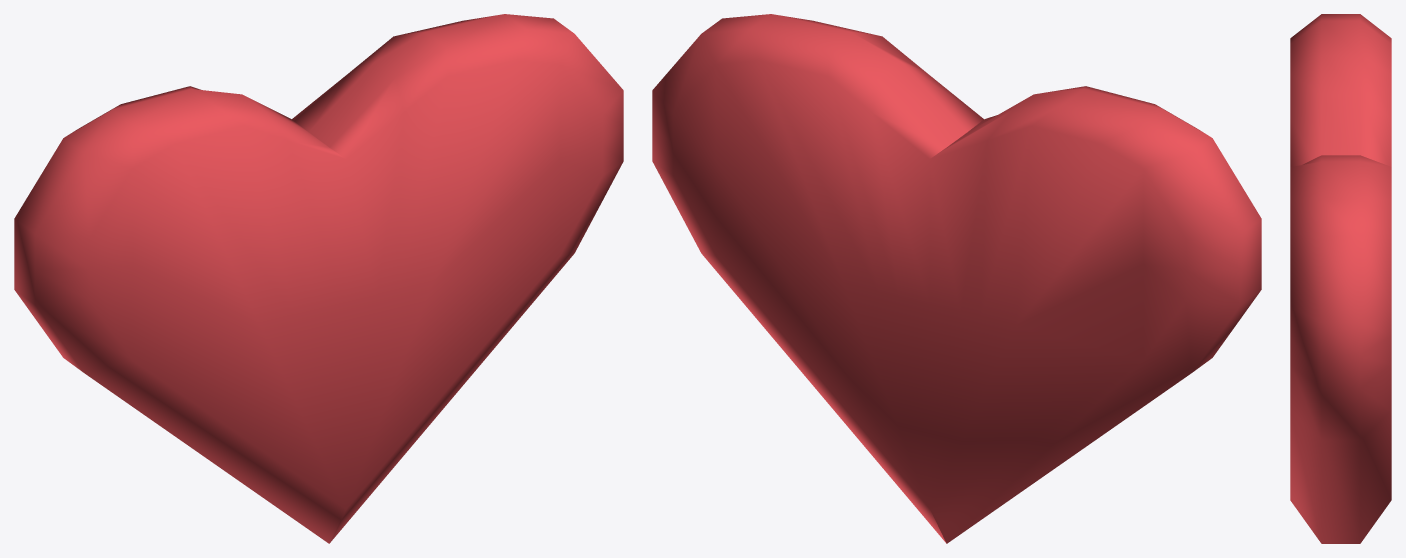
Rendered from heart.fbx.
3 views of the same model, side by side, from view 1: azimuth 30°, elevation 25°; view 2: azimuth 150°, elevation 25°; view 3: azimuth 270°, elevation 25° (orthographic). The views are drawn at different scales.
Visible parts, largest first — view 1: Heart; view 2: Heart; view 3: Heart.
Part boxes in pixels (<box>): Heart: <box>14,14,623,543</box>; Heart: <box>652,14,1261,543</box>; Heart: <box>1290,14,1391,543</box>.
Size of the model in its own units: 11.73 by 1.88 by 8.92.
